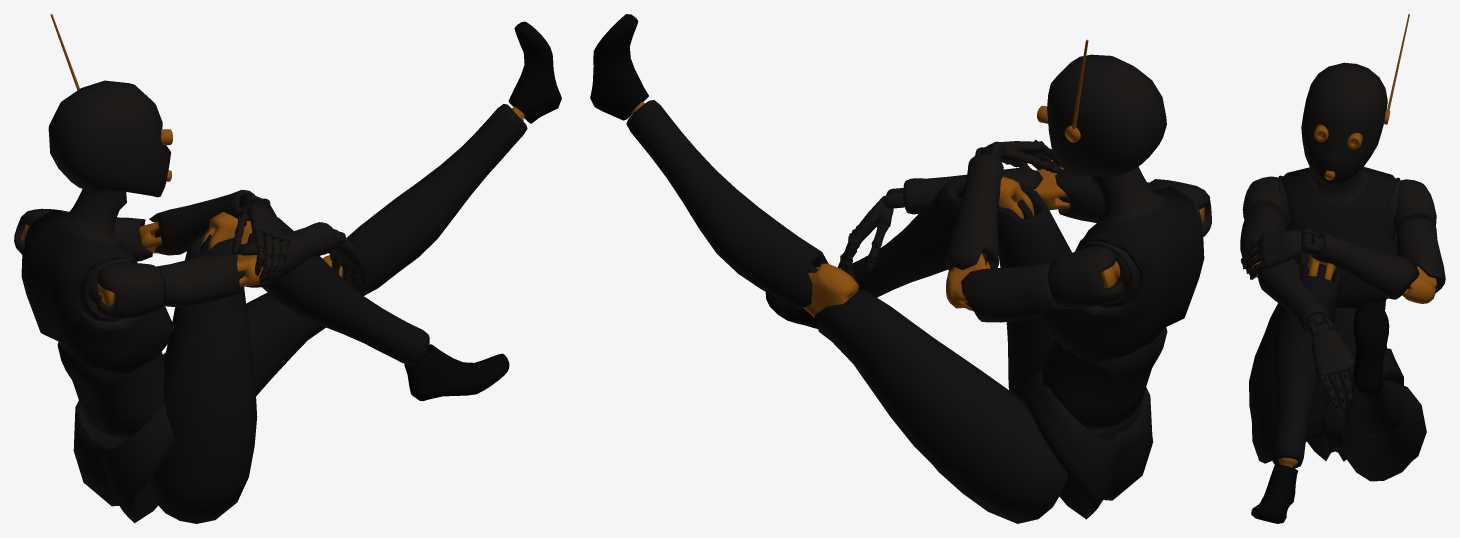
Rendered from robot_gi2_figure.glb.
3 views of the same model, side by side, from view 1: azimuth 30°, elevation 25°; view 2: azimuth 150°, elevation 25°; view 3: azimuth 270°, elevation 25° (orthographic). The views are drawn at different scales.
Parts seen in each view (by area): view 1: static_g2; view 2: static_g2; view 3: static_g2.
Boxes of the visible parts, x1,y1,x2,y2 form: static_g2: (14, 14, 561, 523); static_g2: (590, 14, 1211, 523); static_g2: (1240, 14, 1445, 523).
Size of the model in its own units: 0.3009 by 0.2568 by 0.1125.
